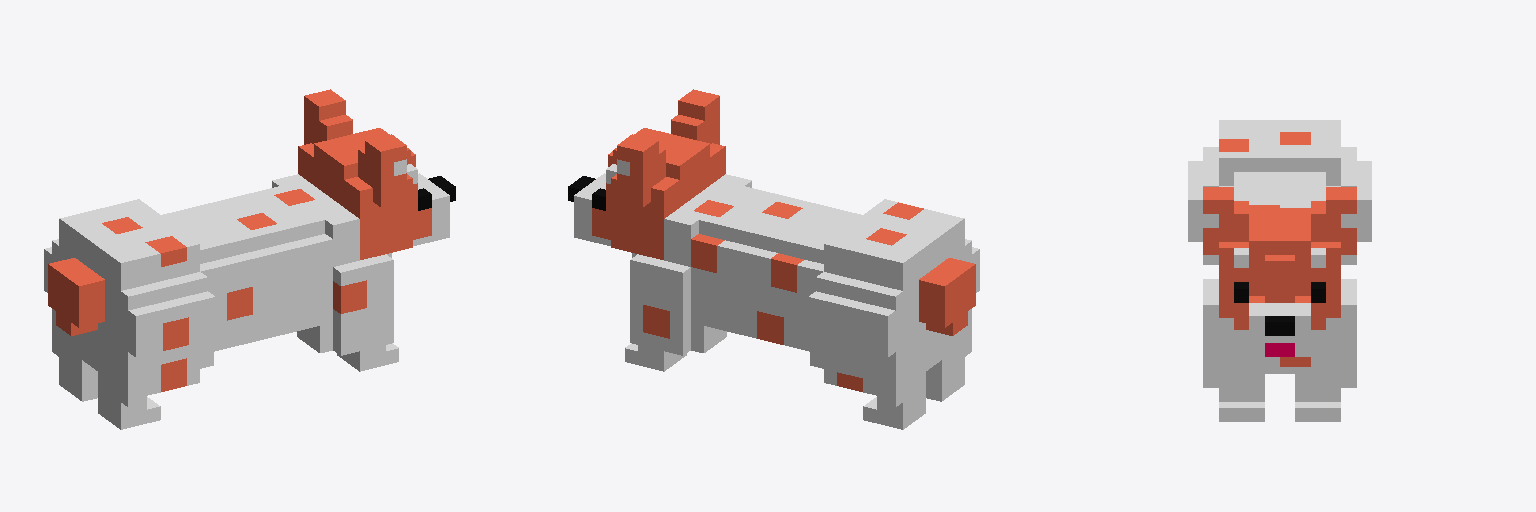
3 renders of one model, left to right at view 1: azimuth 30°, elevation 25°; view 2: azimuth 150°, elevation 25°; view 3: azimuth 270°, elevation 25°, orthographic.
Parts seen in each view (by area): view 1: object 1; view 2: object 1; view 3: object 1.
Part boxes in pixels (left/top/right/bottom): object 1: left=44, top=89, right=455, bottom=429; object 1: left=568, top=89, right=979, bottom=429; object 1: left=1188, top=120, right=1371, bottom=421.
Bounding box in the file's own units: 2.9 × 1.6 × 1.2.
1 materials, 1 textured.